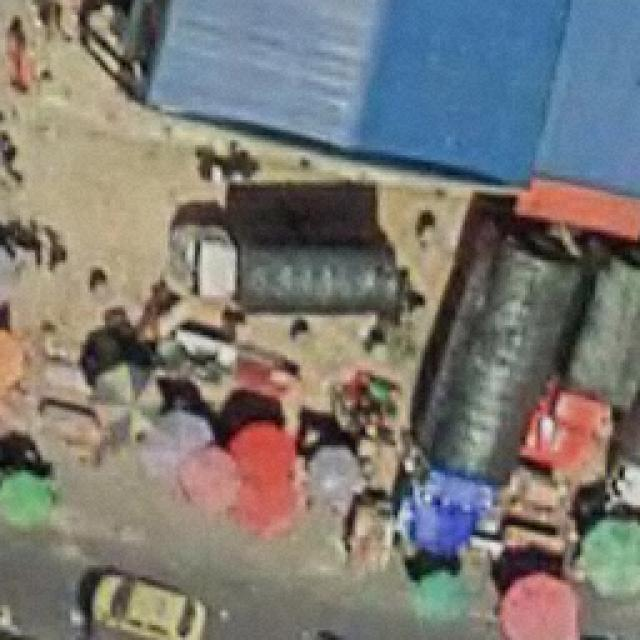vendedor_ambulante: (496, 568, 582, 640), (572, 514, 640, 601), (138, 406, 217, 479), (90, 361, 164, 436), (232, 472, 302, 540), (408, 566, 475, 630), (230, 422, 299, 484), (180, 446, 242, 514), (0, 466, 56, 533), (302, 443, 362, 504), (0, 319, 27, 397)
